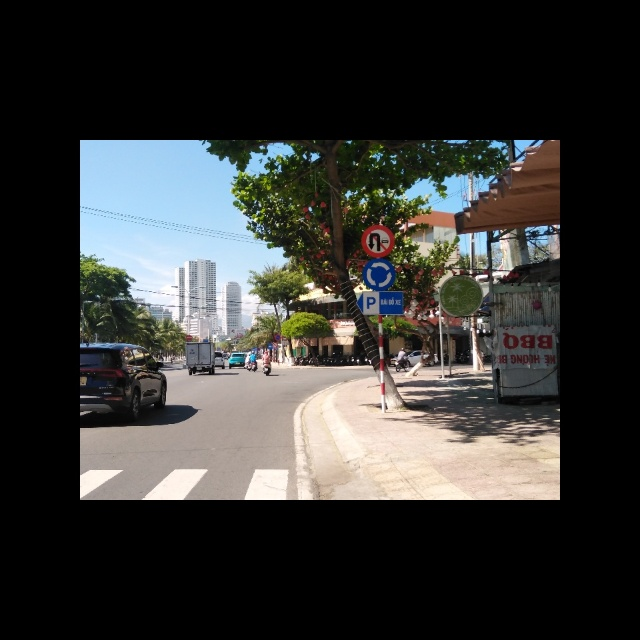Cấm xe ô tô quay đầu: (360, 225, 395, 258)
Nơi giao nhau chạy theo vòng xuyến: (363, 258, 395, 291)
Nơi đỗ xe: (354, 291, 404, 315)
